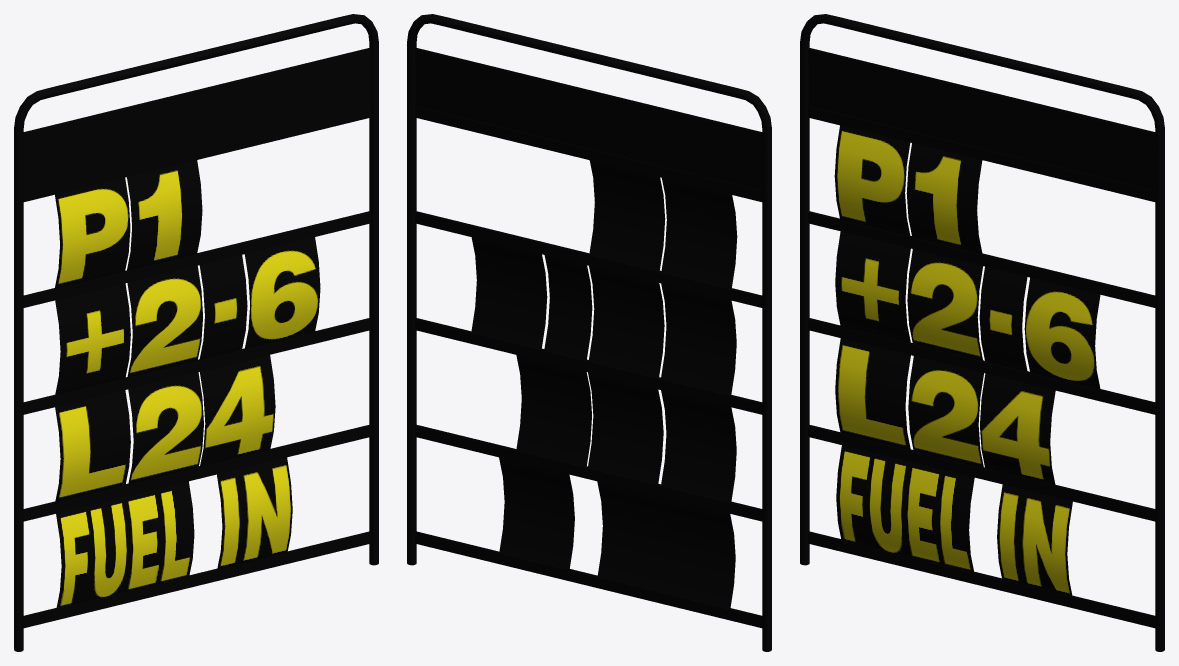
The model's file is pit_board.glb.
The picture shows the model from 3 angles, left to right: view 1: azimuth 30°, elevation 25°; view 2: azimuth 150°, elevation 25°; view 3: azimuth 330°, elevation 25°; orthographic projection.
Parts seen in each view (by area): view 1: Pit_Board, Pit_Board_Inside_Bars, Pit_Board_Metal_Sheet, Pit_Board_Metal_Bar_, FUEL, IN, __2_+_0, L, P; view 2: Pit_Board, Pit_Board_Inside_Bars, Pit_Board_Metal_Sheet, Pit_Board_Metal_Bar_, FUEL, __2_+_0, L, IN, P; view 3: Pit_Board, Pit_Board_Inside_Bars, Pit_Board_Metal_Sheet, Pit_Board_Metal_Bar_, FUEL, IN, __2_+_0, L, P.
Part boxes in pixels (bbox=[...]): Pit_Board: bbox=[126, 160, 320, 484]; Pit_Board_Inside_Bars: bbox=[23, 48, 370, 628]; Pit_Board_Metal_Sheet: bbox=[23, 60, 370, 190]; Pit_Board_Metal_Bar_: bbox=[14, 14, 378, 651]; FUEL: bbox=[56, 481, 194, 608]; IN: bbox=[217, 457, 292, 569]; __2_+_0: bbox=[55, 283, 130, 395]; L: bbox=[55, 390, 130, 502]; P: bbox=[54, 177, 130, 288]; Pit_Board: bbox=[471, 160, 665, 484]; Pit_Board_Inside_Bars: bbox=[415, 48, 762, 628]; Pit_Board_Metal_Sheet: bbox=[415, 60, 762, 190]; Pit_Board_Metal_Bar_: bbox=[407, 14, 771, 651]; FUEL: bbox=[597, 481, 735, 608]; __2_+_0: bbox=[661, 283, 736, 395]; L: bbox=[661, 390, 736, 502]; IN: bbox=[499, 457, 574, 569]; P: bbox=[661, 178, 737, 288]; Pit_Board: bbox=[906, 143, 1100, 485]; Pit_Board_Inside_Bars: bbox=[808, 48, 1155, 628]; Pit_Board_Metal_Sheet: bbox=[808, 60, 1155, 190]; Pit_Board_Metal_Bar_: bbox=[800, 14, 1164, 651]; FUEL: bbox=[836, 445, 974, 572]; IN: bbox=[997, 484, 1072, 596]; __2_+_0: bbox=[835, 231, 910, 343]; L: bbox=[835, 338, 910, 450]; P: bbox=[834, 125, 910, 236].
Bounding box in the file's own units: 68.54 × 99.82 × 2.66.
11 materials, 10 textured.
